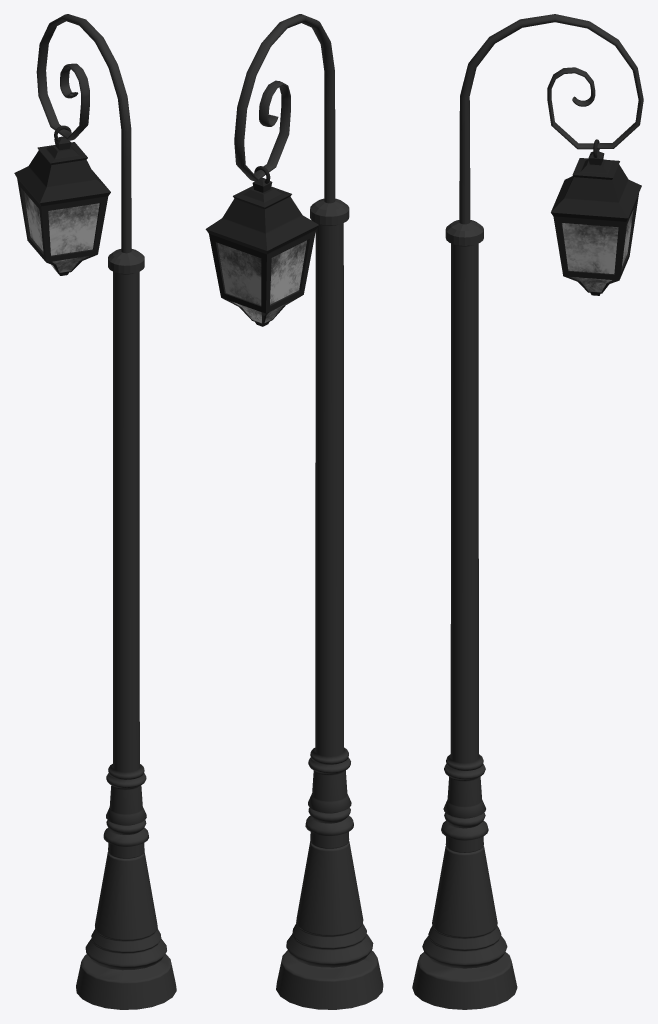
Rendered from lampadaire.glb.
The picture shows the model from 3 angles, left to right: view 1: azimuth 30°, elevation 25°; view 2: azimuth 150°, elevation 25°; view 3: azimuth 270°, elevation 25°; orthographic projection. The views are drawn at different scales.
Visible parts, largest first — view 1: lampadaire, pCube57, pCube58, pCube59; view 2: lampadaire, pCube57, pCube58, pCube59; view 3: lampadaire, pCube57, pCube59.
Boxes of the visible parts, x1,y1,x2,y2 form: lampadaire: (36, 14, 176, 1009); pCube57: (14, 136, 110, 275); pCube58: (48, 203, 99, 255); pCube59: (24, 191, 43, 251); lampadaire: (234, 14, 383, 1009); pCube57: (205, 177, 318, 326); pCube58: (217, 243, 261, 305); pCube59: (270, 240, 306, 304); lampadaire: (412, 14, 643, 1009); pCube57: (551, 151, 641, 295); pCube59: (562, 223, 618, 273).
Bounding box in the file's own units: 0.00764 × 0.0779 × 0.0168.
Materials: 4 (1 with a texture image).
